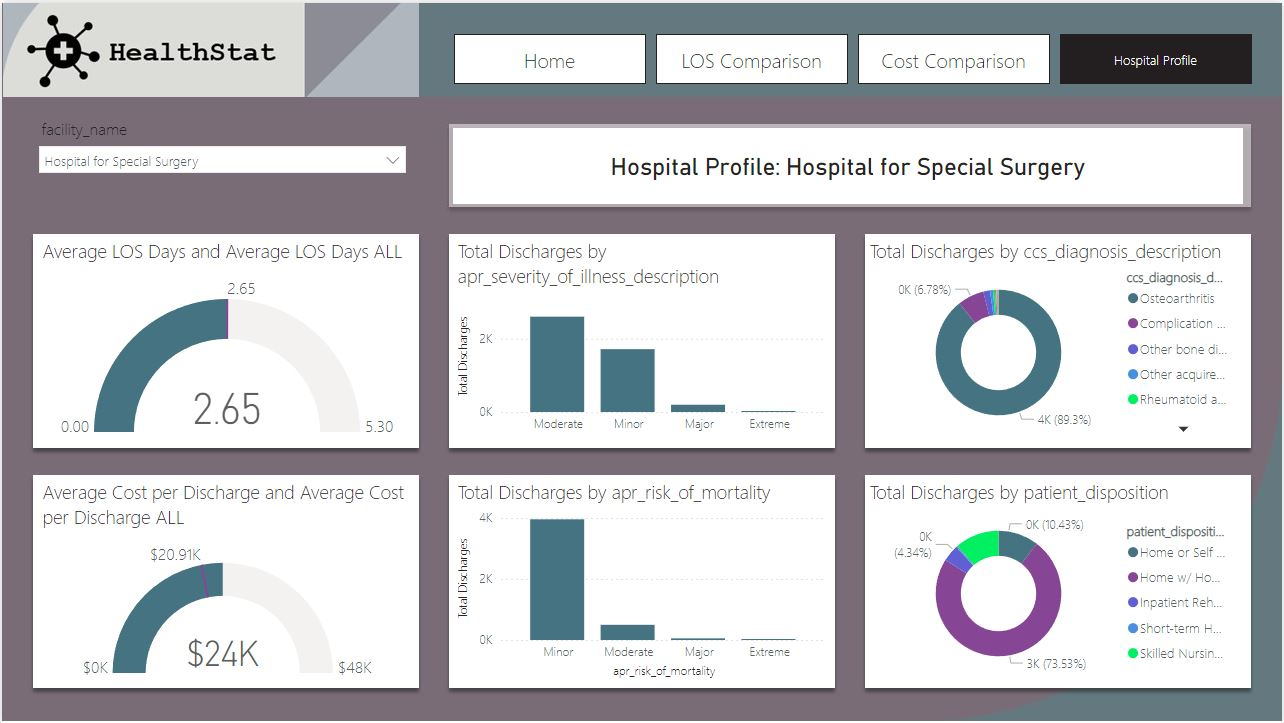

The dashboard page shown, as its layout file describes it:
{"tool":"powerbi","page":{"name":"Hospital Profile","canvas":[1280,720],"ordinal":3},"visuals":[{"type":"gauge","fields":{"Y":["_Measures.Average LOS Days"],"TargetValue":["_Measures.Average LOS Days ALL"]},"box":[35.7,235.3,377.9,203.9],"z":0},{"type":"gauge","fields":{"Y":["_Measures.Average Cost per Discharge"],"TargetValue":["_Measures.Average Cost per Discharge ALL"]},"box":[35.7,476.3,377.9,203.9],"z":1000},{"type":"clusteredColumnChart","fields":{"Y":["_Measures.Total Discharges"],"Category":["hospital_discharges.apr_severity_of_illness_description"]},"box":[450.6,235.3,377.9,203.9],"z":2000},{"type":"clusteredColumnChart","fields":{"Y":["_Measures.Total Discharges"],"Category":["hospital_discharges.apr_risk_of_mortality"]},"box":[450.6,476.3,377.9,203.9],"z":3000},{"type":"donutChart","fields":{"Y":["_Measures.Total Discharges"],"Category":["hospital_discharges.ccs_diagnosis_description"]},"box":[862.8,235.3,377.9,203.9],"z":4000},{"type":"donutChart","fields":{"Y":["_Measures.Total Discharges"],"Series":["hospital_discharges.patient_disposition"]},"box":[862.8,476.3,377.9,203.9],"z":5000},{"type":"slicer","fields":{"Values":["hospital_discharges.facility_name"]},"box":[27.1,109.8,386.5,107],"z":6000},{"type":"card","fields":{"Values":["_Measures.Title Selected Facility"]},"box":[450.6,125.5,790,75.6],"z":7000},{"type":"pageNavigator","box":[452.1,31.4,800,49.9],"z":8000}]}

Visuals, with their boxes in screenshot pixels (x1, y1, x2, y2), scaled from the page's 1280x720 canvas onto the 1284x723 screenshot:
gauge - _Measures.Average LOS Days x _Measures.Average LOS Days ALL: l=36, t=236, r=415, b=441
gauge - _Measures.Average Cost per Discharge x _Measures.Average Cost per Discharge ALL: l=36, t=478, r=415, b=683
clusteredColumnChart - _Measures.Total Discharges x hospital_discharges.apr_severity_of_illness_description: l=452, t=236, r=831, b=441
clusteredColumnChart - _Measures.Total Discharges x hospital_discharges.apr_risk_of_mortality: l=452, t=478, r=831, b=683
donutChart - _Measures.Total Discharges x hospital_discharges.ccs_diagnosis_description: l=865, t=236, r=1245, b=441
donutChart - _Measures.Total Discharges x hospital_discharges.patient_disposition: l=865, t=478, r=1245, b=683
slicer - hospital_discharges.facility_name: l=27, t=110, r=415, b=218
card - _Measures.Title Selected Facility: l=452, t=126, r=1244, b=202
pageNavigator: l=454, t=32, r=1256, b=82
